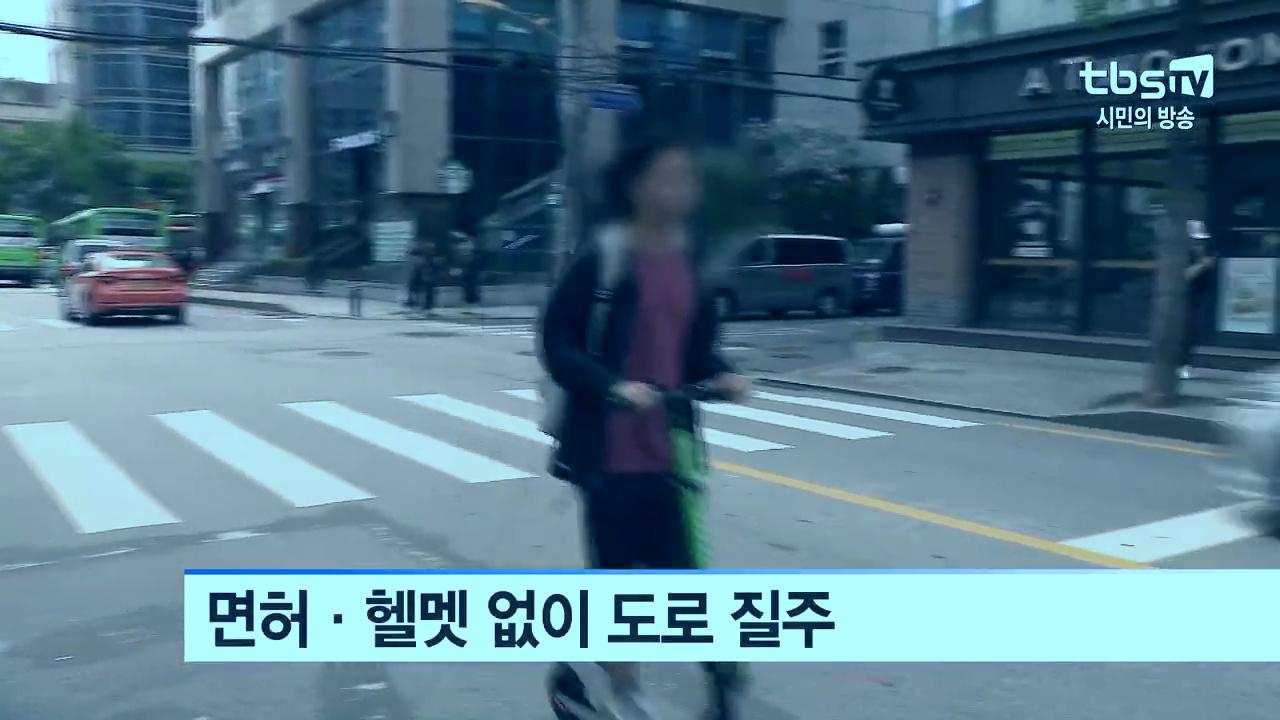nonhelmet: (527, 132, 784, 720)
